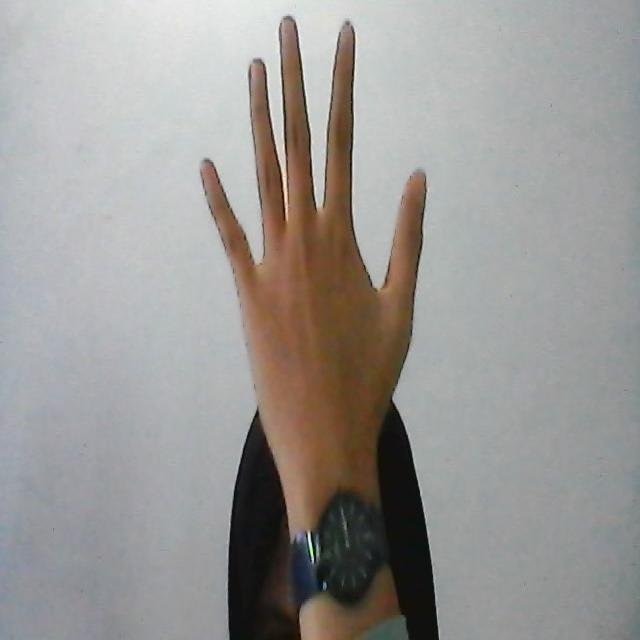hand: (200, 8, 431, 577)
